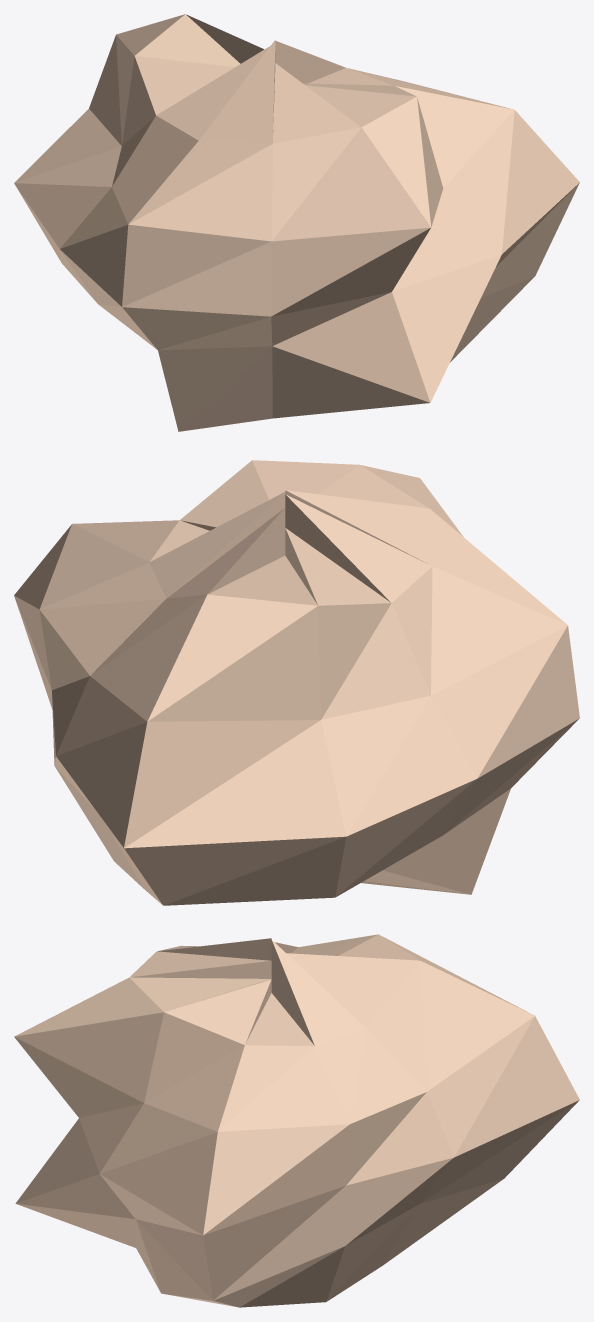
The model's file is rock_046.obj.
3 renders of one model, top to bottom at view 1: azimuth 30°, elevation 25°; view 2: azimuth 150°, elevation 25°; view 3: azimuth 270°, elevation 25°, orthographic. The views are drawn at different scales.
Size of the model in its own units: 1.22 by 0.8398 by 1.34.
